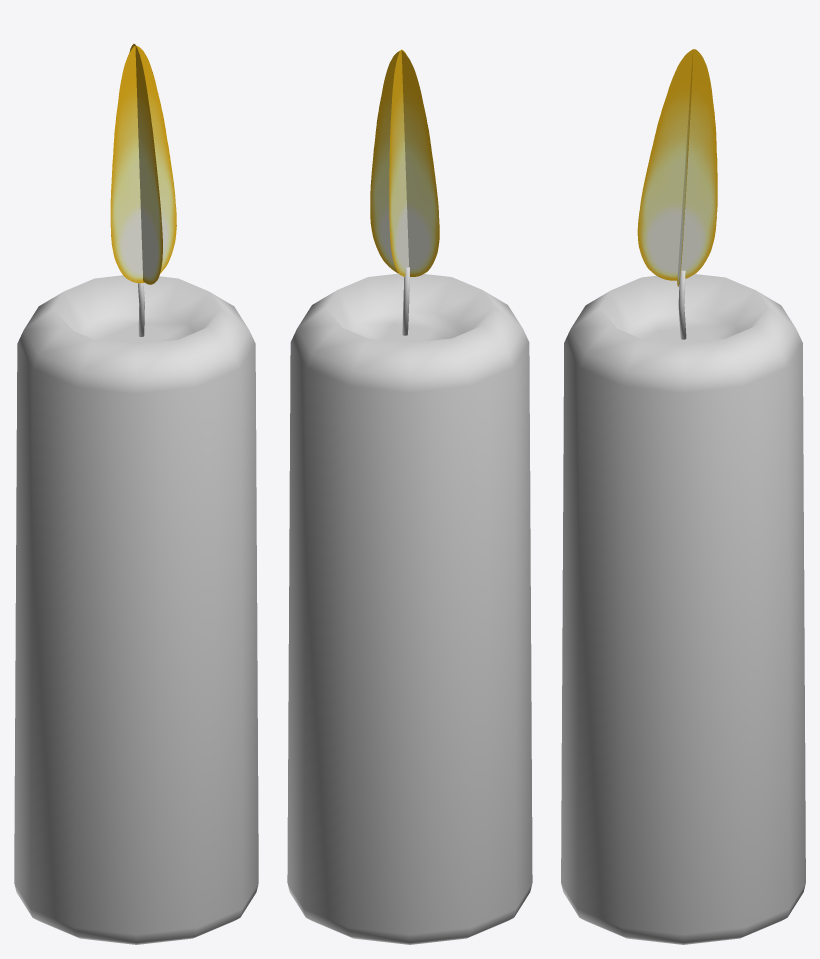
The model's file is SM_Candle.fbx.
The picture shows the model from 3 angles, left to right: view 1: azimuth 30°, elevation 25°; view 2: azimuth 150°, elevation 25°; view 3: azimuth 270°, elevation 25°; orthographic projection.
Parts seen in each view (by area): view 1: Bougie; view 2: Bougie; view 3: Bougie.
Boxes of the visible parts, <box> form: Bougie: <box>14,44,258,944</box>; Bougie: <box>287,49,532,944</box>; Bougie: <box>561,49,805,944</box>.
Size of the model in its own units: 11.15 by 43.61 by 11.15.
